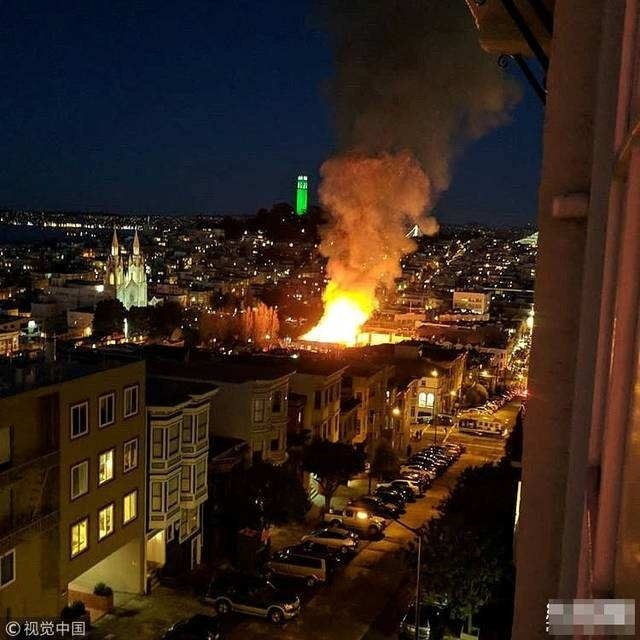fire: (300, 282, 376, 346)
